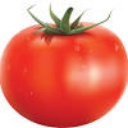tomato: (1, 13, 128, 127)
